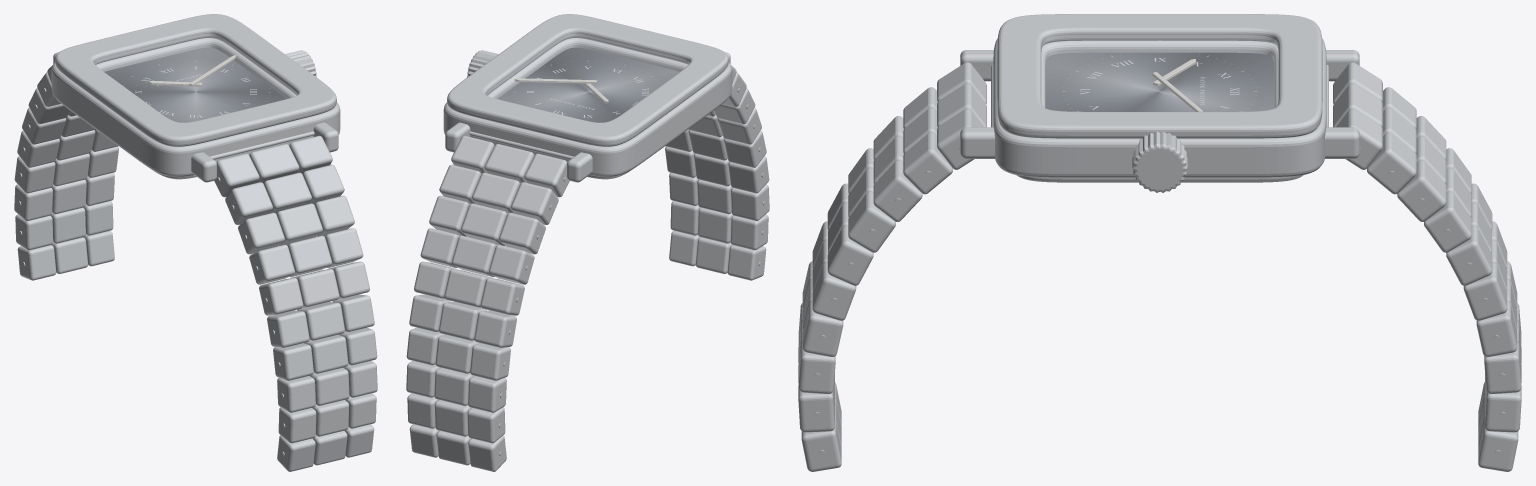
File: patek-philippe-twenty-4.glb
3 renders of one model, left to right at view 1: azimuth 30°, elevation 25°; view 2: azimuth 150°, elevation 25°; view 3: azimuth 270°, elevation 25°, orthographic. The views are drawn at different scales.
Parts seen in each view (by area): view 1: Безель, Стекло, Корпус, Циферблат, Звено 6 часов: ряд 2, элемент 1, Звено 6 часов: ряд 3, элемент 1, Звено 6 часов: ряд 3, элемент 3, Звено 6 часов: ряд 2, элемент 3, Звено 6 часов: ряд 4, элемент 1, Звено 6 часов: ряд 1, элемент 3, Звено 6 часов: ряд 6, элемент 1, Звено 6 часов: ряд 4, элемент 3 (+42 smaller); view 2: Безель, Стекло, Корпус, Циферблат, Звено 12 часов: ряд 2, элемент 1, Звено 12 часов: ряд 3, элемент 1, Звено 12 часов: ряд 3, элемент 3, Звено 12 часов: ряд 2, элемент 3, Звено 12 часов: ряд 4, элемент 1, Звено 12 часов: ряд 1, элемент 3, Звено 12 часов: ряд 6, элемент 1, Звено 12 часов: ряд 4, элемент 3 (+42 smaller); view 3: Безель, Корпус, Стекло, Циферблат, Головка, Звено 12 часов: ряд 2, элемент 2, Звено 6 часов: ряд 2, элемент 2, Звено 12 часов: ряд 3, элемент 2, Звено 6 часов: ряд 3, элемент 2, Звено 12 часов: ряд 4, элемент 2, Звено 6 часов: ряд 4, элемент 2, Звено 12 часов: ряд 5, элемент 2 (+24 smaller).
Boxes of the visible parts, x1,y1,x2,y2 form: Безель: [55, 14, 336, 146]; Стекло: [94, 33, 297, 122]; Корпус: [51, 38, 340, 182]; Циферблат: [104, 47, 285, 122]; Звено 6 часов: ряд 2, элемент 1: [225, 182, 272, 224]; Звено 6 часов: ряд 3, элемент 1: [238, 212, 284, 254]; Звено 6 часов: ряд 3, элемент 3: [276, 203, 322, 245]; Звено 6 часов: ряд 2, элемент 3: [263, 172, 311, 213]; Звено 6 часов: ряд 4, элемент 1: [249, 245, 294, 284]; Звено 6 часов: ряд 1, элемент 3: [249, 144, 299, 183]; Звено 6 часов: ряд 6, элемент 1: [267, 310, 309, 347]; Звено 6 часов: ряд 4, элемент 3: [287, 235, 332, 277]; Безель: [447, 14, 728, 146]; Стекло: [486, 33, 689, 122]; Корпус: [443, 38, 732, 182]; Циферблат: [498, 47, 679, 122]; Звено 12 часов: ряд 2, элемент 1: [511, 182, 558, 224]; Звено 12 часов: ряд 3, элемент 1: [499, 212, 545, 254]; Звено 12 часов: ряд 3, элемент 3: [461, 203, 507, 245]; Звено 12 часов: ряд 2, элемент 3: [472, 172, 520, 213]; Звено 12 часов: ряд 4, элемент 1: [489, 245, 534, 284]; Звено 12 часов: ряд 1, элемент 3: [484, 144, 534, 183]; Звено 12 часов: ряд 6, элемент 1: [474, 310, 516, 347]; Звено 12 часов: ряд 4, элемент 3: [451, 235, 496, 277]; Безель: [997, 14, 1322, 138]; Корпус: [960, 39, 1359, 177]; Стекло: [1041, 35, 1278, 111]; Циферблат: [1045, 52, 1274, 111]; Головка: [1132, 131, 1187, 192]; Звено 12 часов: ряд 2, элемент 2: [1367, 132, 1416, 194]; Звено 6 часов: ряд 2, элемент 2: [903, 132, 952, 194]; Звено 12 часов: ряд 3, элемент 2: [1397, 160, 1446, 221]; Звено 6 часов: ряд 3, элемент 2: [873, 160, 922, 221]; Звено 12 часов: ряд 4, элемент 2: [1424, 191, 1471, 252]; Звено 6 часов: ряд 4, элемент 2: [848, 191, 895, 252]; Звено 12 часов: ряд 5, элемент 2: [1446, 226, 1492, 285].
Size of the model in its own units: 28.5 by 38.49 by 67.01.
Materials: 13 (1 with a texture image).
